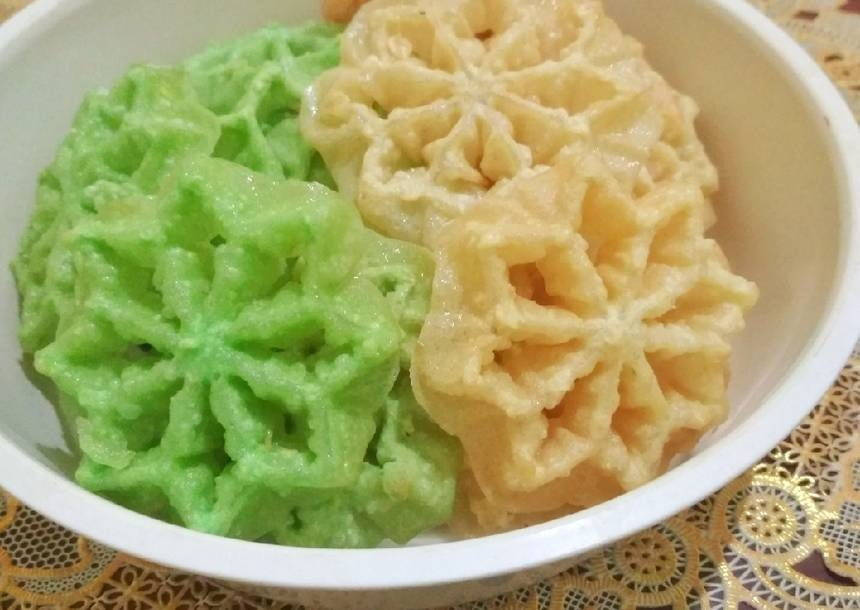kembang_goyang: (387, 160, 760, 498)
